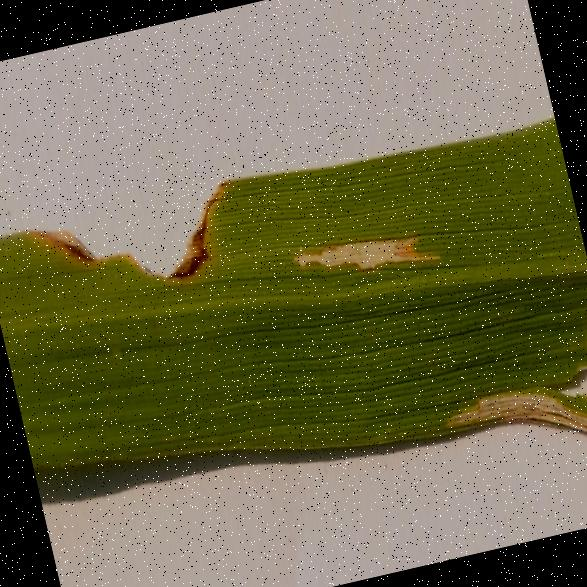Bacteria_Leaf_Blight: (248, 154, 528, 382)
